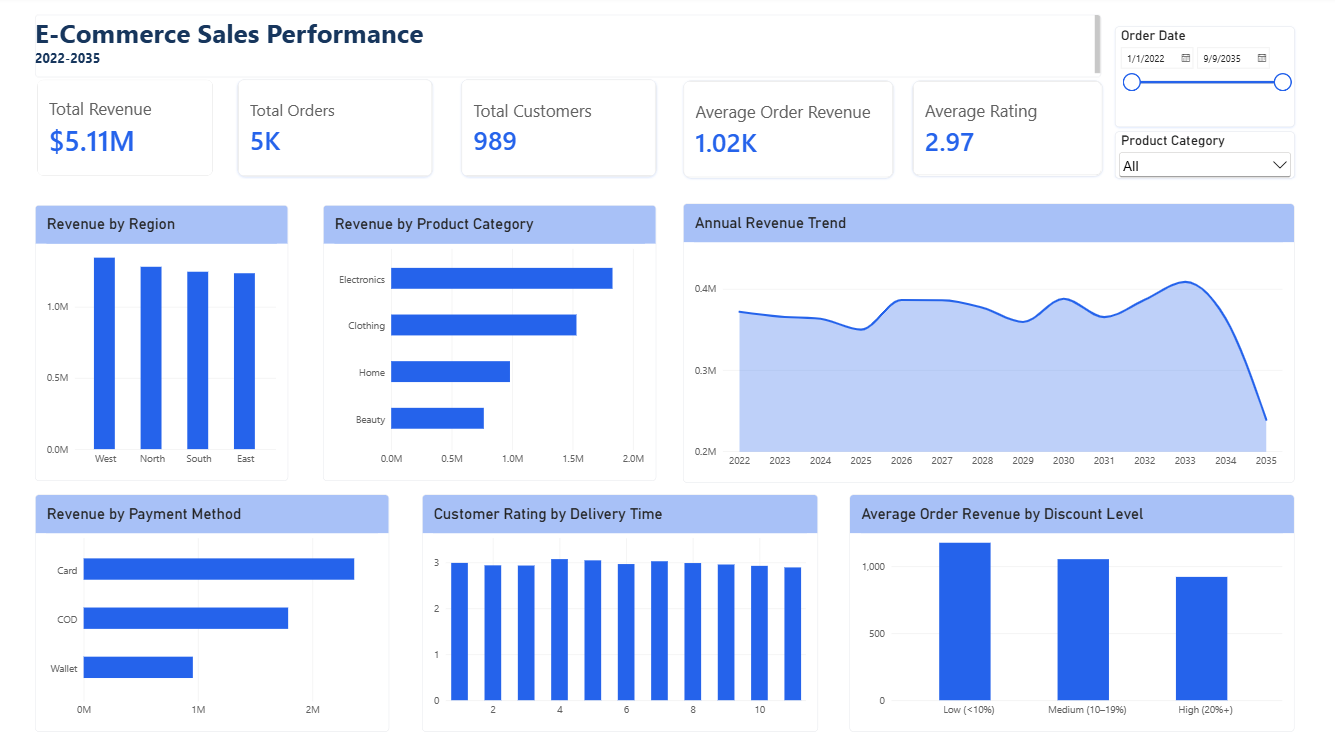

This screenshot's page, from the dashboard's own definition file:
{"tool":"powerbi","page":{"name":"Page 1","canvas":[1920,1080],"ordinal":0},"visuals":[{"type":"clusteredColumnChart","title":"Revenue by Region","fields":{"Category":["public ecommerce_sales.region"],"Y":["Sum(public ecommerce_sales.revenue)"]},"box":[52.5,300,362.5,395],"z":0},{"type":"cardVisual","fields":{"Data":["public ecommerce_sales.Revenue Check"]},"box":[52.9,120,254,140],"z":1000},{"type":"cardVisual","fields":{"Data":["public ecommerce_sales.Total Orders"]},"box":[342.5,120,280,140],"z":2000},{"type":"cardVisual","fields":{"Data":["public ecommerce_sales.Total Customers"]},"box":[662.5,120,280,140],"z":3000},{"type":"cardVisual","fields":{"Data":["public ecommerce_sales.Average Order Revenue"]},"box":[980,122.5,302,140],"z":4000},{"type":"cardVisual","fields":{"Data":["public ecommerce_sales.Average Rating"]},"box":[1307.5,122.5,272.5,137.5],"z":5000},{"type":"barChart","title":"Revenue by Product Category","fields":{"Category":["public ecommerce_sales.product_category"],"Y":["Sum(public ecommerce_sales.revenue)"]},"box":[465,300,477.5,395],"z":6000},{"type":"areaChart","title":"Annual Revenue Trend","fields":{"Category":["public ecommerce_sales.order_date.Variation.Date Hierarchy.Year","public ecommerce_sales.order_date.Variation.Date Hierarchy.Quarter","public ecommerce_sales.order_date.Variation.Date Hierarchy.Month","public ecommerce_sales.order_date.Variation.Date Hierarchy.Day"],"Y":["Sum(public ecommerce_sales.revenue)"]},"box":[980,298,876,400],"z":7000},{"type":"clusteredBarChart","title":"Revenue by Payment Method","fields":{"Category":["public ecommerce_sales.payment_method"],"Y":["Sum(public ecommerce_sales.revenue)"]},"box":[52.5,715,507.5,340],"z":8000},{"type":"clusteredColumnChart","title":"Customer Rating by Delivery Time","fields":{"Category":["public ecommerce_sales.delivery_days"],"Y":["Avg(public ecommerce_sales.customer_rating)"]},"box":[605,715,567.5,340],"z":9000},{"type":"clusteredColumnChart","title":"Average Order Revenue by Discount Level","fields":{"Category":["public ecommerce_sales.Discount Category"],"Y":["Avg(public ecommerce_sales.revenue)"]},"box":[1217.5,715,637.5,340],"z":10000},{"type":"slicer","title":"    Order Date","fields":{"Values":["public ecommerce_sales.order_date"]},"box":[1598.6,45.7,257.1,144.3],"z":11000},{"type":"slicer","fields":{"Values":["public ecommerce_sales.product_category"]},"box":[1597.5,195,257.5,67.5],"z":12000},{"type":"textbox","box":[52.5,27.5,1527.5,90],"z":13000}]}

Visuals, with their boxes in screenshot pixels (x1, y1, x2, y2), scaled from the page's 1920x1080 canvas onto the 1335x746 screenshot:
"Revenue by Region" clusteredColumnChart: 37,207,289,480
cardVisual - public ecommerce_sales.Revenue Check: 37,83,213,180
cardVisual - public ecommerce_sales.Total Orders: 238,83,433,180
cardVisual - public ecommerce_sales.Total Customers: 461,83,655,180
cardVisual - public ecommerce_sales.Average Order Revenue: 681,85,891,181
cardVisual - public ecommerce_sales.Average Rating: 909,85,1099,180
"Revenue by Product Category" barChart: 323,207,655,480
"Annual Revenue Trend" areaChart: 681,206,1290,482
"Revenue by Payment Method" clusteredBarChart: 37,494,389,729
"Customer Rating by Delivery Time" clusteredColumnChart: 421,494,815,729
"Average Order Revenue by Discount Level" clusteredColumnChart: 847,494,1290,729
"    Order Date" slicer: 1112,32,1290,131
slicer - public ecommerce_sales.product_category: 1111,135,1290,181
textbox: 37,19,1099,81
